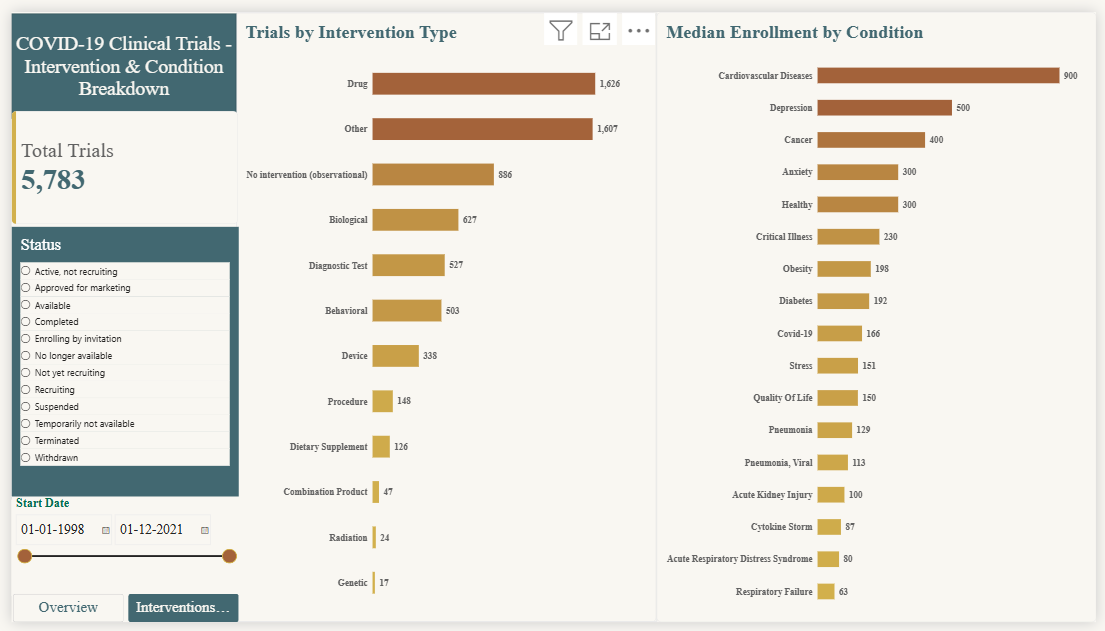

What the dashboard file says about the page in this screenshot:
{"tool":"powerbi","page":{"name":"Interventions & Conditions","canvas":[1920,1080],"ordinal":1},"visuals":[{"type":"clusteredBarChart","title":"Trials by Intervention Type","fields":{"Category":["interventions.intervention_type"],"Y":["interventions.Intervention Trials"]},"box":[398,0,744,1080],"z":0},{"type":"clusteredBarChart","title":"Median Enrollment by Condition","fields":{"Category":["conditions.condition"],"Y":["conditions.Median Enrollment by Condition"]},"box":[1142.3,0,778,1080],"z":1000},{"type":"shape","box":[0,2,398,186],"z":5000},{"type":"listSlicer","fields":{"Values":["trials.Status"]},"box":[0,380,402,482],"z":6000},{"type":"cardVisual","fields":{"Data":["trials.Total Trials"]},"box":[0,175.5,401.7,200.9],"z":7000},{"type":"slicer","fields":{"Values":["trials.Start Date"]},"box":[0,857.5,402,174],"z":8000},{"type":"pageNavigator","box":[2.5,1030,400,50],"z":9000}]}

Visuals, with their boxes in screenshot pixels (x1, y1, x2, y2), scaled from the page's 1920x1080 canvas onto the 1105x631 screenshot:
"Trials by Intervention Type" clusteredBarChart: [229,0,657,630]
"Median Enrollment by Condition" clusteredBarChart: [657,0,1104,630]
shape: [0,1,229,110]
listSlicer - trials.Status: [0,222,231,504]
cardVisual - trials.Total Trials: [0,103,231,220]
slicer - trials.Start Date: [0,501,231,603]
pageNavigator: [1,602,232,630]
